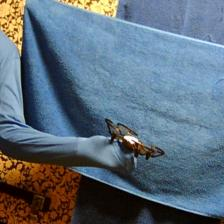drone: (105, 116, 165, 162)
